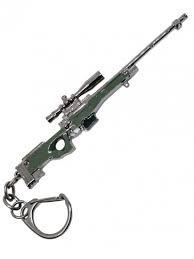Gun: (1, 14, 189, 245)
